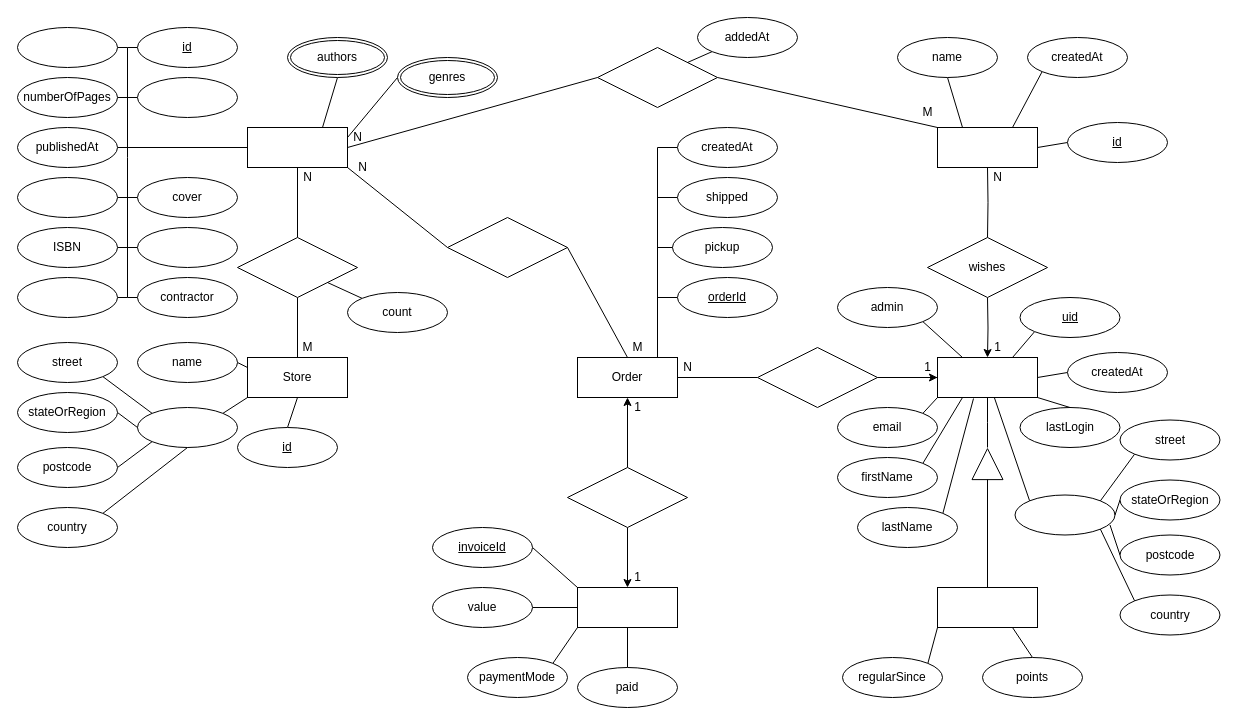
Image size: 1238x725. Some labels were removed from this diagram. The centre of each missing label's shape, as x and y in pixels:
address: the point at 1064,514
belongs to: the point at 627,497
Book: the point at 297,147
contains: the point at 507,247
Customer: the point at 987,377
description: the point at 187,97
Invoice: the point at 627,607
language: the point at 67,297
location: the point at 187,427
makes: the point at 817,377
partOf: the point at 657,77
price: the point at 67,47
publisher: the point at 67,197
Regular Customer: the point at 987,607
stock: the point at 297,267
weight: the point at 187,247
Wishlist: the point at 987,147
